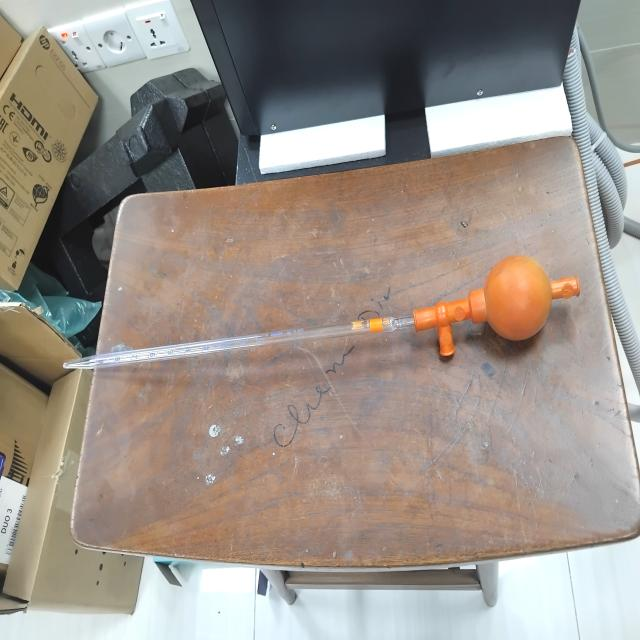Volumetric_Pipet: (47, 242, 590, 401)
